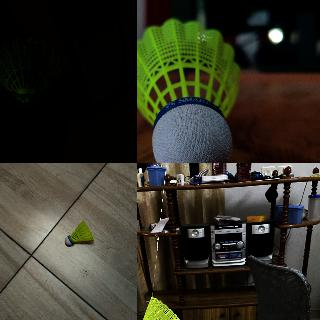shuttlecock: (137, 16, 239, 162), (0, 38, 61, 111), (137, 297, 182, 319), (64, 221, 92, 247)
